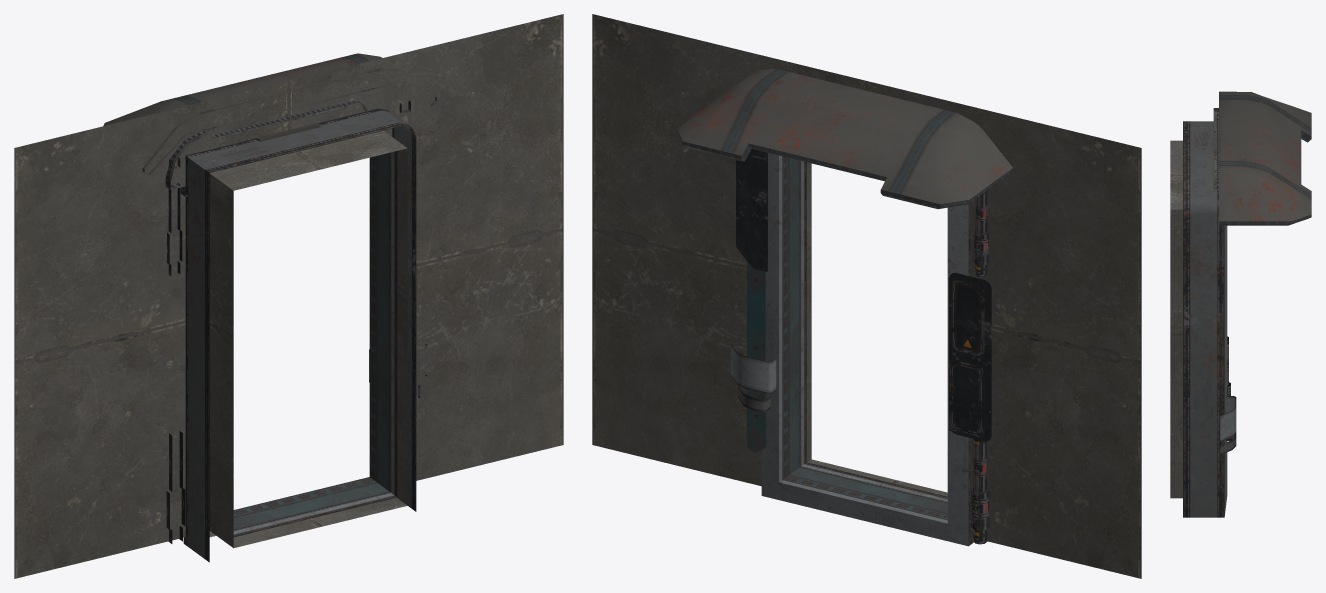
Rendered from ARC0910060.fbx.
3 views of the same model, side by side, from view 1: azimuth 30°, elevation 25°; view 2: azimuth 150°, elevation 25°; view 3: azimuth 270°, elevation 25° (orthographic). The views are drawn at different scales.
Visible parts, largest first — view 1: smARC0910060; view 2: smARC0910060; view 3: smARC0910060.
Part boxes in pixels (x1,y1,x2,y2): smARC0910060: (14,14,563,578); smARC0910060: (592,14,1141,578); smARC0910060: (1170,91,1311,517).
Size of the model in its own units: 400 by 305 by 110.
Materials: 1 (1 with a texture image).
